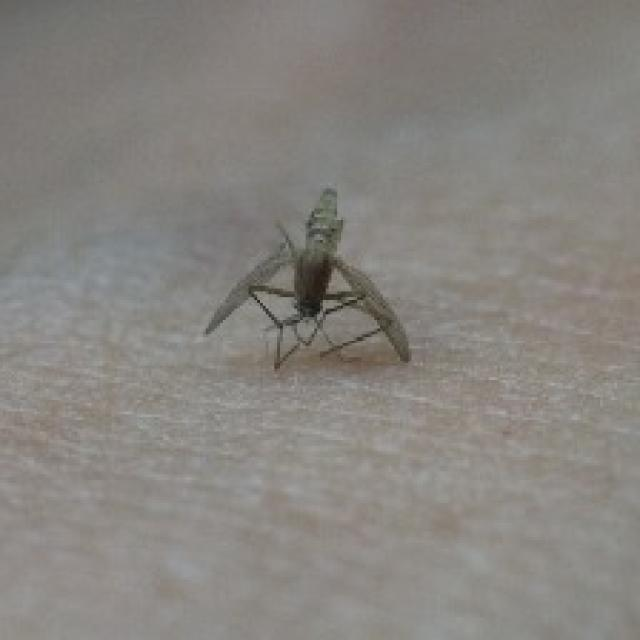culex: (203, 183, 411, 371)
